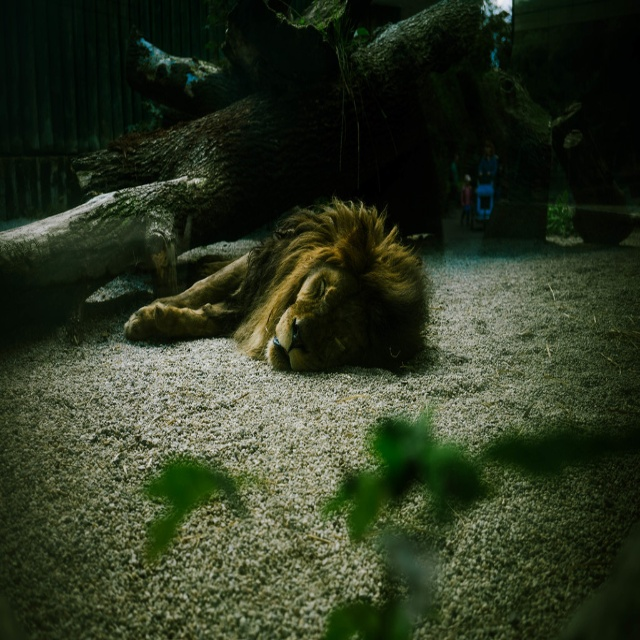Lion: (125, 195, 436, 372)
